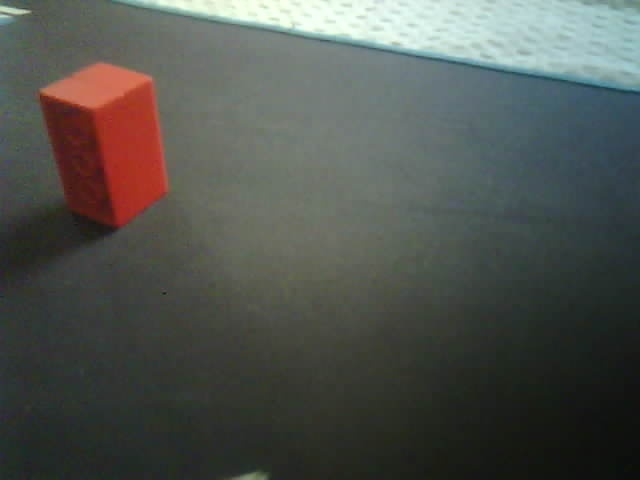lego: (37, 61, 168, 231)
